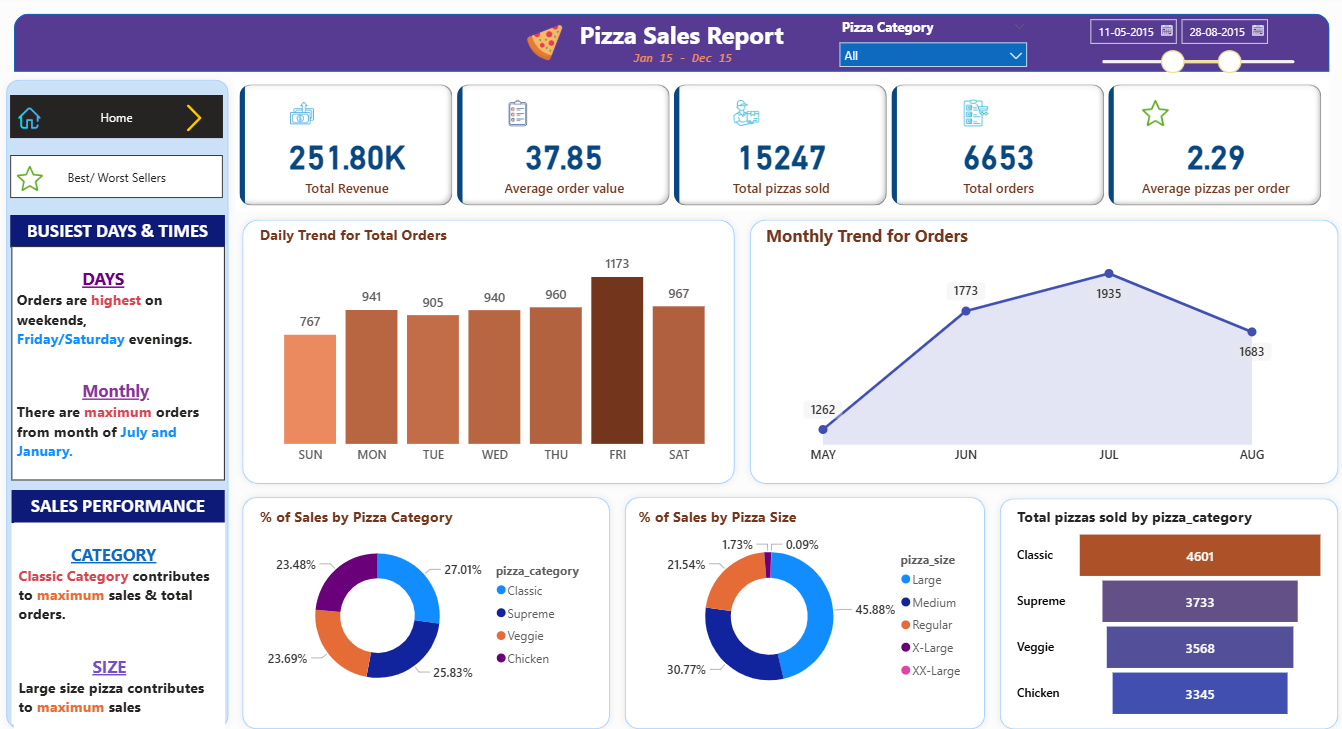

The dashboard page shown, as its layout file describes it:
{"tool":"powerbi","page":{"name":"Home","canvas":[1500,820],"ordinal":0},"visuals":[{"type":"cardVisual","fields":{"Data":["pizza_sales.Total Revenue","pizza_sales.Average order value","pizza_sales.Total pizzas sold","pizza_sales.Total orders","pizza_sales.Average pizzas per order"]},"box":[263.7,89.3,1218.3,145.6],"z":0},{"type":"shape","box":[16.5,15.1,1465.6,64.6],"z":1000},{"type":"textbox","box":[608.5,15.1,303.6,49.4],"z":2000},{"type":"textbox","box":[689.5,50.8,144.2,28.8],"z":3000},{"type":"image","box":[578.3,22,60.4,50.8],"z":4000},{"type":"shape","box":[263.7,236.2,564.5,310.4],"z":5000},{"type":"columnChart","title":" Daily Trend for Total Orders","fields":{"Category":["pizza_sales.Order Day"],"Y":["pizza_sales.Total orders"]},"box":[285.7,250,534.3,277.5],"z":6000},{"type":"shape","box":[828.2,236.2,671.7,310.4],"z":7000},{"type":"areaChart","title":" Monthly Trend for Orders","fields":{"Y":["pizza_sales.Total orders"],"Category":["pizza_sales.Order Month"]},"box":[848.8,250,615.3,277.5],"z":8000},{"type":"shape","box":[263.7,545.3,425.8,274.7],"z":9000},{"type":"shape","box":[689.5,545.3,417.6,274.7],"z":10000},{"type":"shape","box":[1107.1,546.7,392.8,273.3],"z":11000},{"type":"donutChart","title":"% of Sales by Pizza Category","fields":{"Category":["pizza_sales.pizza_category"],"Y":["pizza_sales.Total Revenue"]},"box":[285.7,564.5,381.8,222.5],"z":12000},{"type":"donutChart","title":"% of Sales by Pizza Size","fields":{"Y":["pizza_sales.Total Revenue"],"Category":["pizza_sales.pizza_size"]},"box":[707.4,564.5,381.8,223.9],"z":13000},{"type":"funnel","fields":{"Category":["pizza_sales.pizza_category"],"Y":["pizza_sales.Total pizzas sold"]},"box":[1129,564.5,353,241.7],"z":14000},{"type":"shape","box":[0,81,263.7,739],"z":15000},{"type":"textbox","box":[12.4,239,239,35.7],"z":16000},{"type":"textbox","box":[13.7,274.7,237.6,261],"z":17000},{"type":"textbox","box":[13.7,545.3,237.6,261],"z":18000},{"type":"textbox","box":[13.7,545.3,237.6,37.1],"z":19000},{"type":"textbox","box":[16.5,582.4,234.9,237.6],"z":20000},{"type":"slicer","fields":{"Values":["pizza_sales.pizza_category"]},"box":[925.8,15.1,229.4,74.2],"z":21000},{"type":"slicer","fields":{"Values":["pizza_sales.order_date"]},"box":[1203.2,11,261,74.2],"z":22000},{"type":"pageNavigator","box":[12.4,105.8,237.6,48.1],"z":23000},{"type":"pageNavigator","box":[12.4,173.1,237.6,48.1],"z":24000},{"type":"image","box":[195,111.3,45.3,39.8],"z":25000},{"type":"image","box":[16.5,112.6,34.3,37.1],"z":26000},{"type":"image","box":[11,179.9,46.7,38.5],"z":27000}]}

Visuals, with their boxes in screenshot pixels (x1, y1, x2, y2), scaled from the page's 1500x820 canvas onto the 1342x729 screenshot:
cardVisual - pizza_sales.Total Revenue x pizza_sales.Average order value: {"x1": 236, "y1": 79, "x2": 1326, "y2": 209}
shape: {"x1": 15, "y1": 13, "x2": 1326, "y2": 71}
textbox: {"x1": 544, "y1": 13, "x2": 816, "y2": 57}
textbox: {"x1": 617, "y1": 45, "x2": 746, "y2": 71}
image: {"x1": 517, "y1": 20, "x2": 571, "y2": 65}
shape: {"x1": 236, "y1": 210, "x2": 741, "y2": 486}
" Daily Trend for Total Orders" columnChart: {"x1": 256, "y1": 222, "x2": 734, "y2": 469}
shape: {"x1": 741, "y1": 210, "x2": 1341, "y2": 486}
" Monthly Trend for Orders" areaChart: {"x1": 759, "y1": 222, "x2": 1310, "y2": 469}
shape: {"x1": 236, "y1": 485, "x2": 617, "y2": 728}
shape: {"x1": 617, "y1": 485, "x2": 990, "y2": 728}
shape: {"x1": 990, "y1": 486, "x2": 1341, "y2": 728}
"% of Sales by Pizza Category" donutChart: {"x1": 256, "y1": 502, "x2": 597, "y2": 700}
"% of Sales by Pizza Size" donutChart: {"x1": 633, "y1": 502, "x2": 974, "y2": 701}
funnel - pizza_sales.pizza_category x pizza_sales.Total pizzas sold: {"x1": 1010, "y1": 502, "x2": 1326, "y2": 717}
shape: {"x1": 0, "y1": 72, "x2": 236, "y2": 728}
textbox: {"x1": 11, "y1": 212, "x2": 225, "y2": 244}
textbox: {"x1": 12, "y1": 244, "x2": 225, "y2": 476}
textbox: {"x1": 12, "y1": 485, "x2": 225, "y2": 717}
textbox: {"x1": 12, "y1": 485, "x2": 225, "y2": 518}
textbox: {"x1": 15, "y1": 518, "x2": 225, "y2": 728}
slicer - pizza_sales.pizza_category: {"x1": 828, "y1": 13, "x2": 1034, "y2": 79}
slicer - pizza_sales.order_date: {"x1": 1076, "y1": 10, "x2": 1310, "y2": 76}
pageNavigator: {"x1": 11, "y1": 94, "x2": 224, "y2": 137}
pageNavigator: {"x1": 11, "y1": 154, "x2": 224, "y2": 197}
image: {"x1": 174, "y1": 99, "x2": 215, "y2": 134}
image: {"x1": 15, "y1": 100, "x2": 45, "y2": 133}
image: {"x1": 10, "y1": 160, "x2": 52, "y2": 194}
